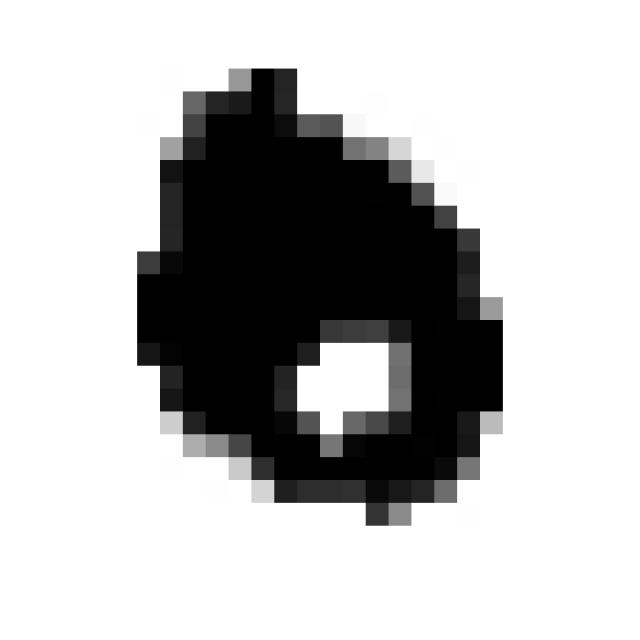0 -zero-: (119, 48, 516, 541)
